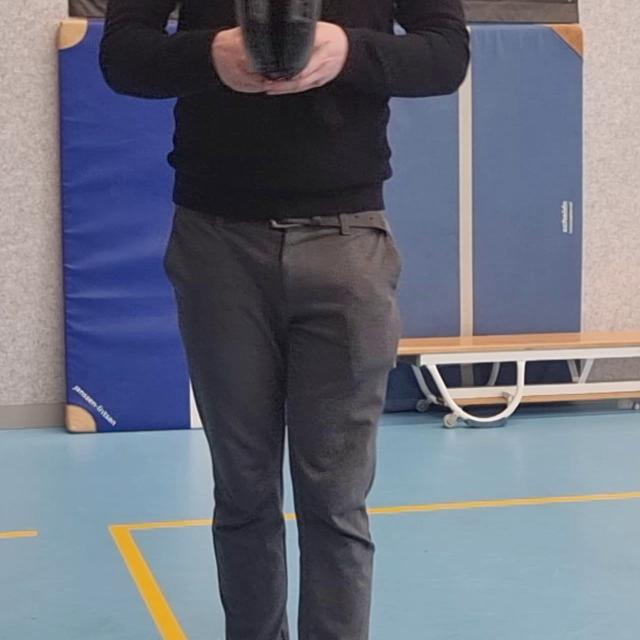paddle: (238, 0, 323, 86)
